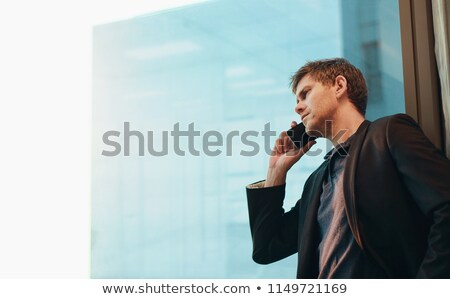phone: (282, 118, 316, 155)
talk: (270, 76, 338, 171)
